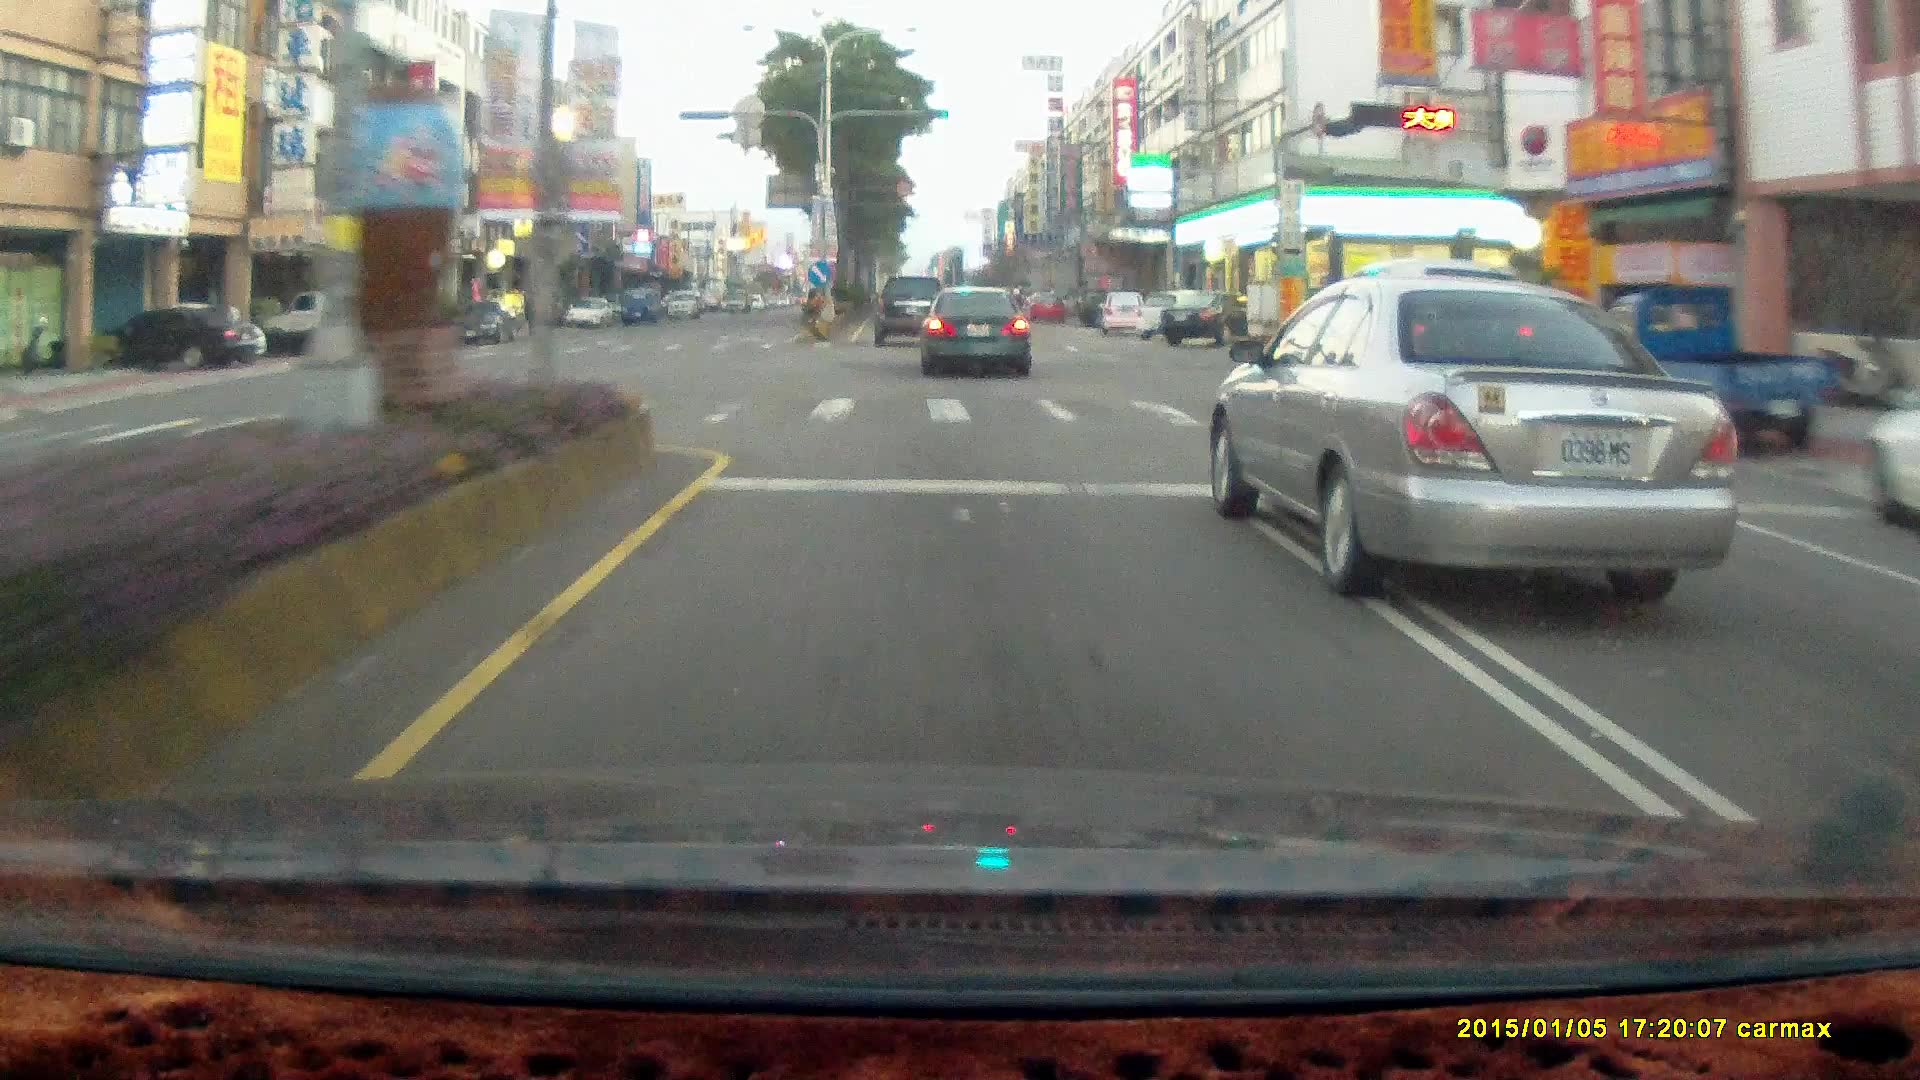vehicle: (1207, 273, 1735, 589), (1585, 281, 1825, 454), (1581, 280, 1822, 448), (1315, 261, 1561, 422), (920, 285, 1033, 382), (84, 305, 256, 368), (920, 284, 1031, 377), (113, 302, 265, 369), (257, 289, 401, 353), (274, 291, 406, 360), (1862, 382, 1920, 538), (873, 272, 953, 349), (1159, 287, 1266, 344), (876, 273, 951, 344), (1164, 291, 1255, 348), (1133, 290, 1207, 340), (450, 305, 514, 343), (1095, 289, 1147, 334), (1072, 286, 1131, 326), (1100, 290, 1149, 338), (566, 295, 615, 326), (1023, 291, 1060, 322), (622, 289, 657, 320), (658, 289, 691, 315)
